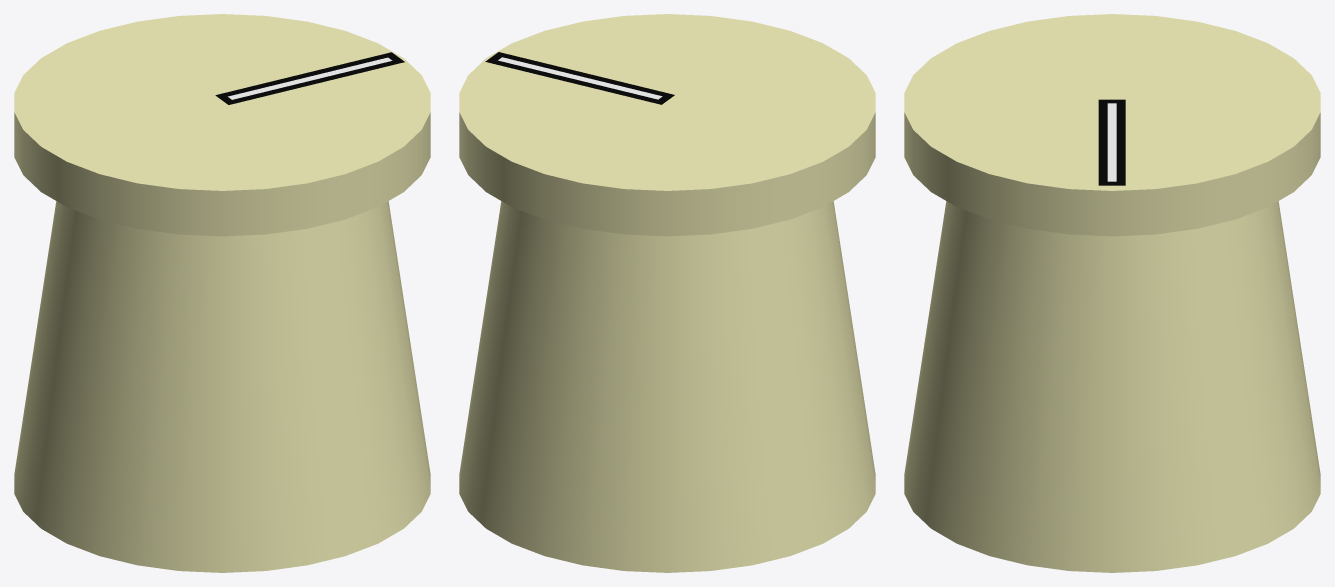
File: Pull_Rotating_Dial_V1.fbx
The picture shows the model from 3 angles, left to right: view 1: azimuth 30°, elevation 25°; view 2: azimuth 150°, elevation 25°; view 3: azimuth 270°, elevation 25°; orthographic projection.
Visible parts, largest first — view 1: Pull_Dial, Trim; view 2: Pull_Dial, Trim; view 3: Pull_Dial, Trim.
Part boxes in pixels (bbox=[...]): Pull_Dial: bbox=[14, 14, 430, 572]; Trim: bbox=[215, 52, 404, 104]; Pull_Dial: bbox=[459, 14, 875, 572]; Trim: bbox=[485, 52, 674, 104]; Pull_Dial: bbox=[904, 14, 1320, 572]; Trim: bbox=[1098, 99, 1125, 185].
Bounding box in the file's own units: 1.88 × 1.9 × 1.87.
